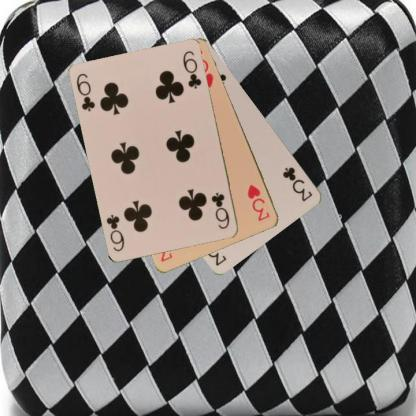3c: (280, 164, 314, 203)
3h: (244, 182, 271, 223)
6c: (74, 71, 97, 113), (209, 190, 231, 230)
